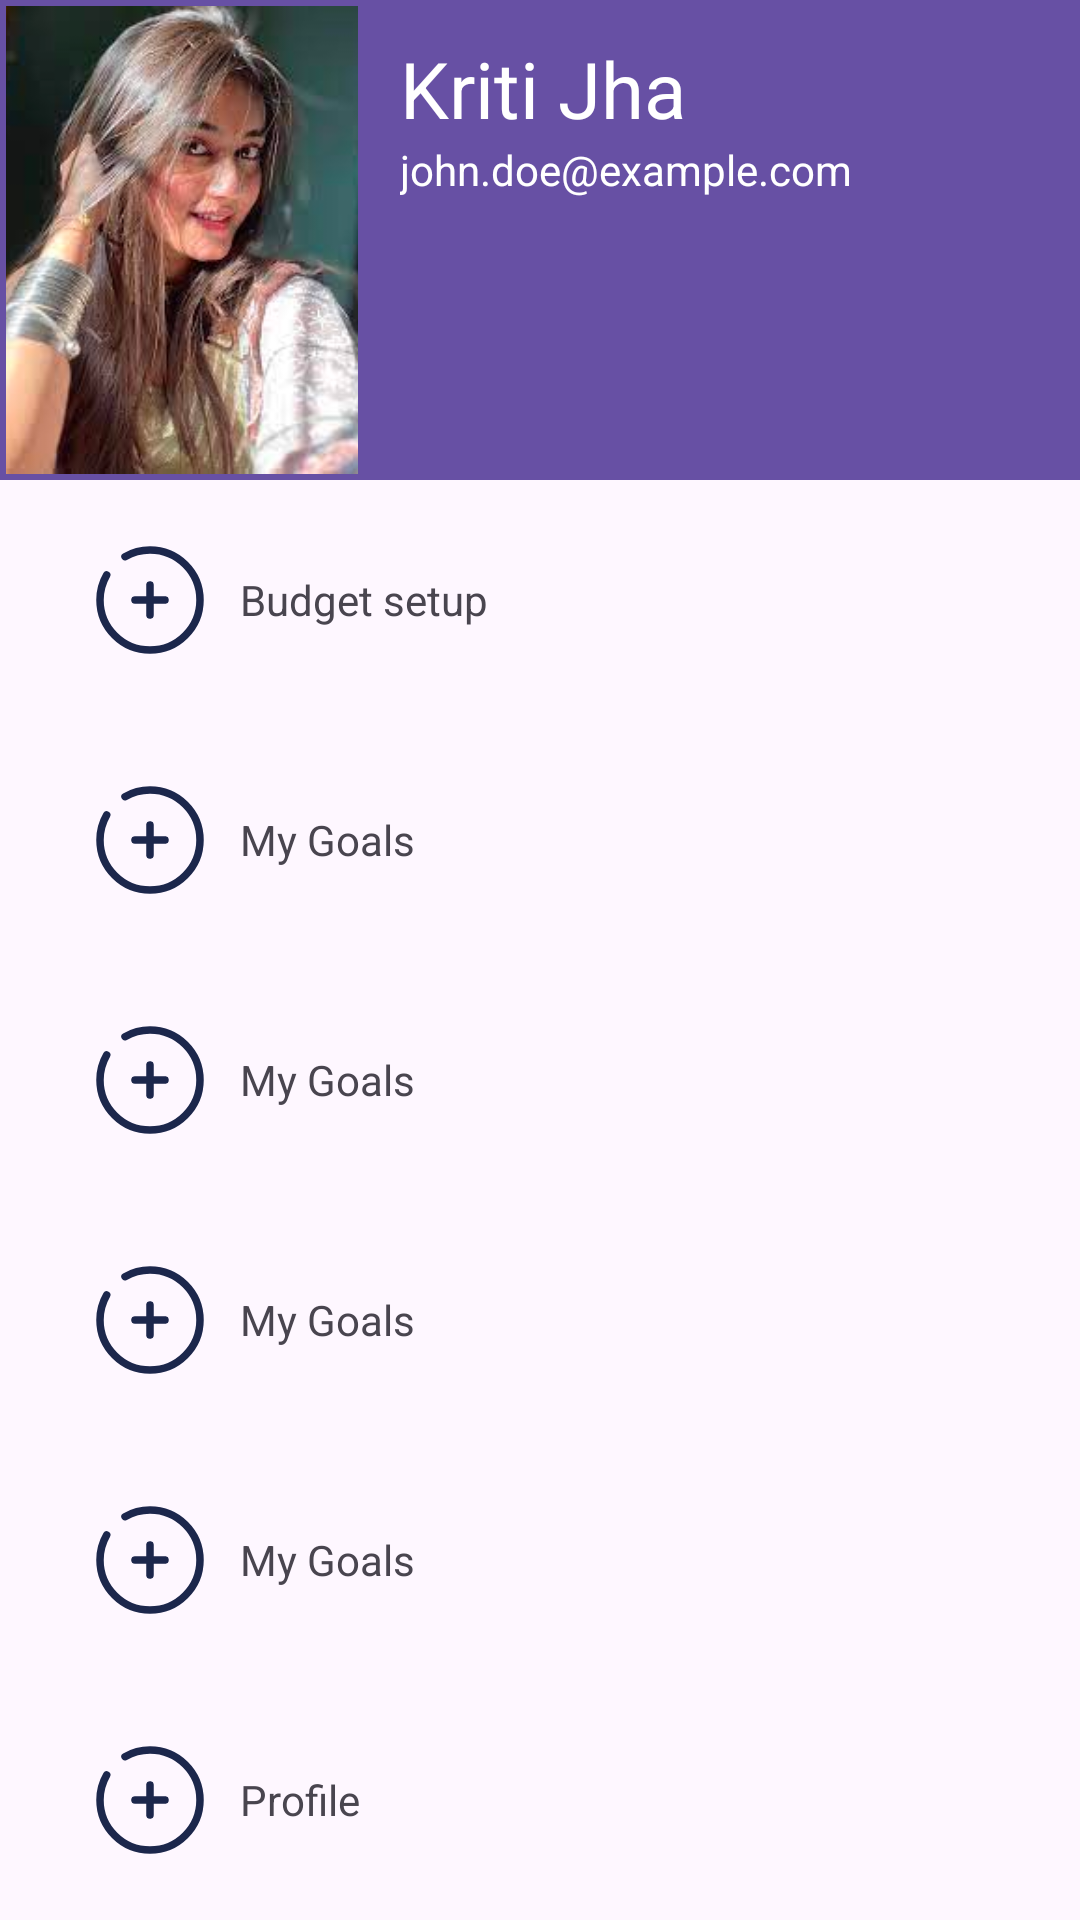

Icons on this 1080w x 1920h Android screen, each with the point to tap as point (x, y):
add: point (150, 600), point (150, 840), point (150, 1080), point (150, 1320), point (150, 1560), point (150, 1800)
